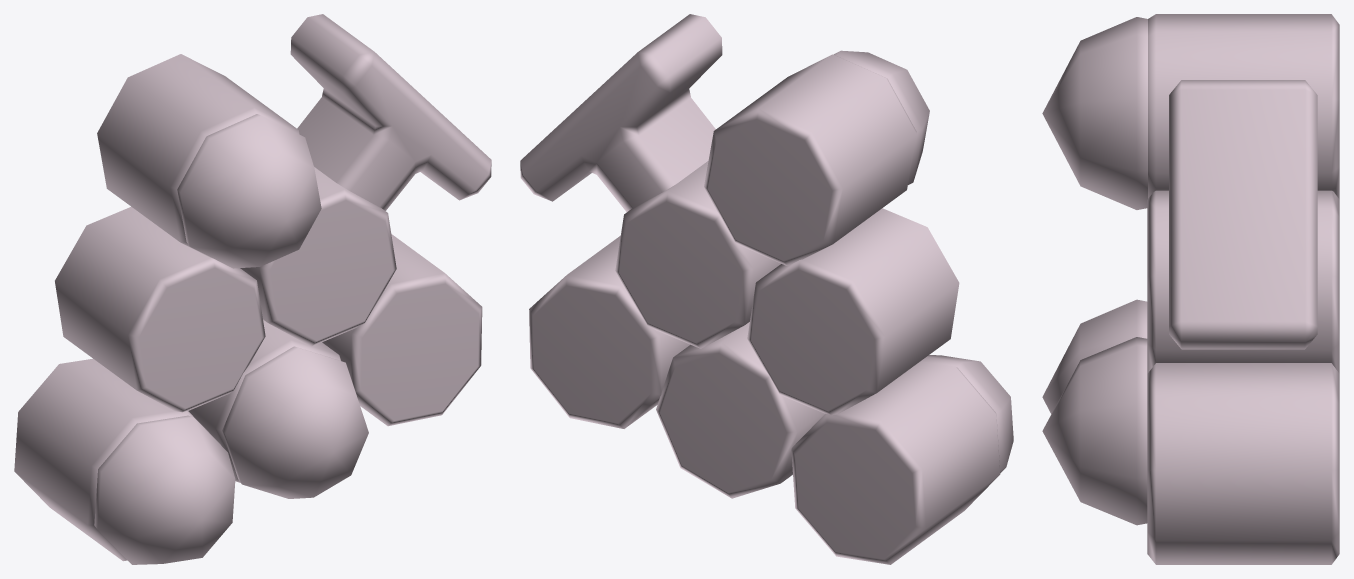
File: mod_sc_roma_001_ar05_prop_010.fbx
3 renders of one model, left to right at view 1: azimuth 30°, elevation 25°; view 2: azimuth 150°, elevation 25°; view 3: azimuth 270°, elevation 25°, orthographic. The views are drawn at different scales.
Parts seen in each view (by area): view 1: mod_sc_roma_001_ar05_prop_010; view 2: mod_sc_roma_001_ar05_prop_010; view 3: mod_sc_roma_001_ar05_prop_010.
Part boxes in pixels (box(x1,y1,x2,y2)): mod_sc_roma_001_ar05_prop_010: box(14, 14, 491, 564); mod_sc_roma_001_ar05_prop_010: box(520, 14, 1013, 564); mod_sc_roma_001_ar05_prop_010: box(1042, 14, 1339, 564).
Size of what is drawn, in the model's own units: 239 by 244 by 124.
